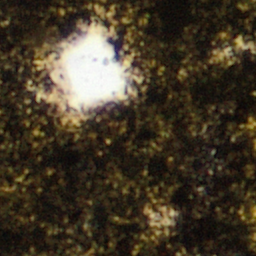cement_matrix: (0, 0, 255, 255), (36, 20, 138, 124), (151, 211, 172, 225), (239, 41, 244, 45), (222, 52, 225, 55)
cracks: (240, 42, 243, 44), (223, 53, 224, 54)
gravel_crushed_stones: (37, 21, 137, 123), (152, 212, 171, 224)
